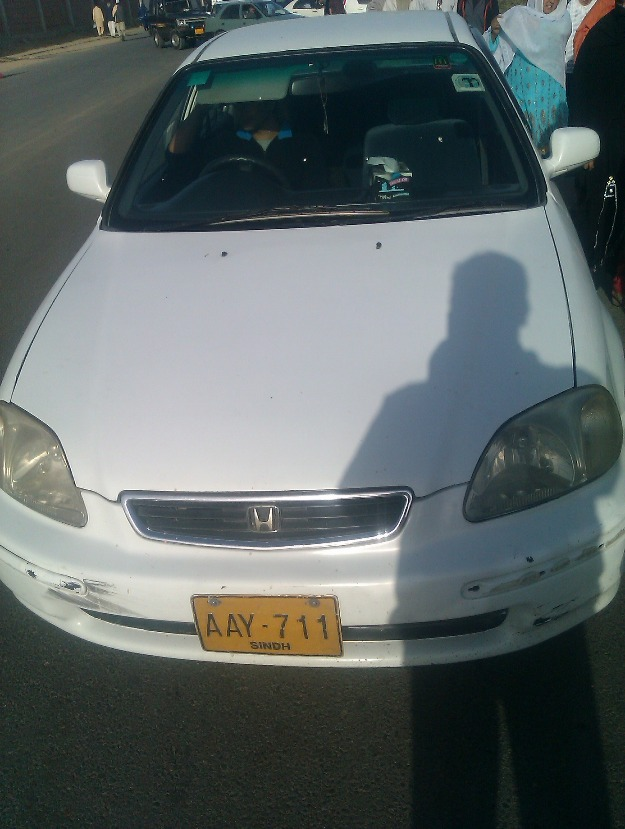Number Plate (Car): (188, 594, 344, 657)
